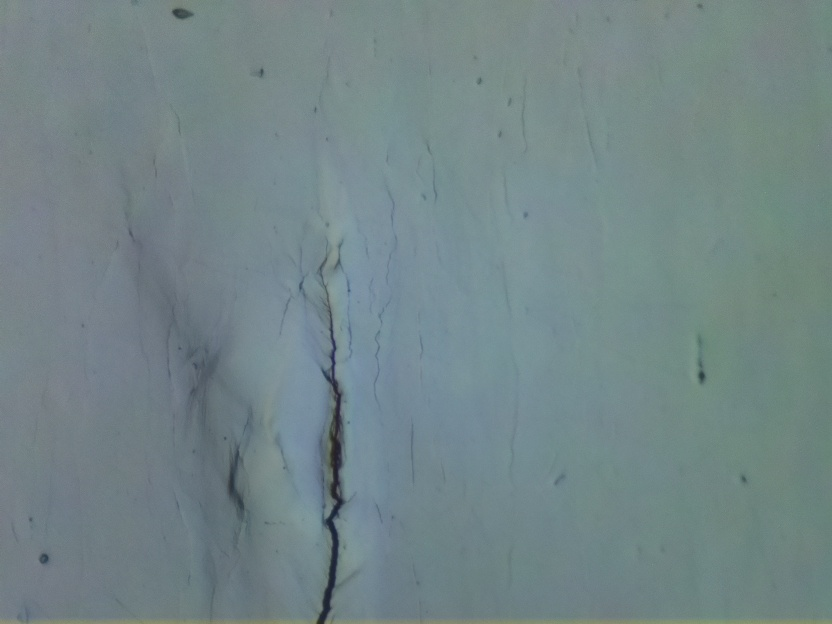crack: (312, 259, 352, 624)
